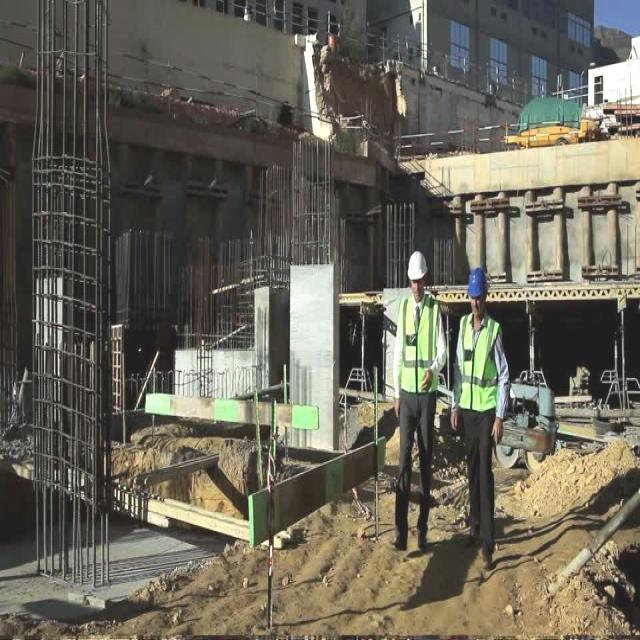face_nomask: (469, 293, 485, 321), (409, 276, 426, 302)
hand_noglove: (420, 365, 436, 398), (489, 418, 504, 448), (392, 397, 400, 421), (450, 408, 458, 431)
head_helmet: (467, 264, 488, 299), (406, 249, 428, 280)
person: (457, 264, 504, 551), (396, 249, 440, 551)
vest: (395, 296, 442, 396), (458, 318, 497, 408)
